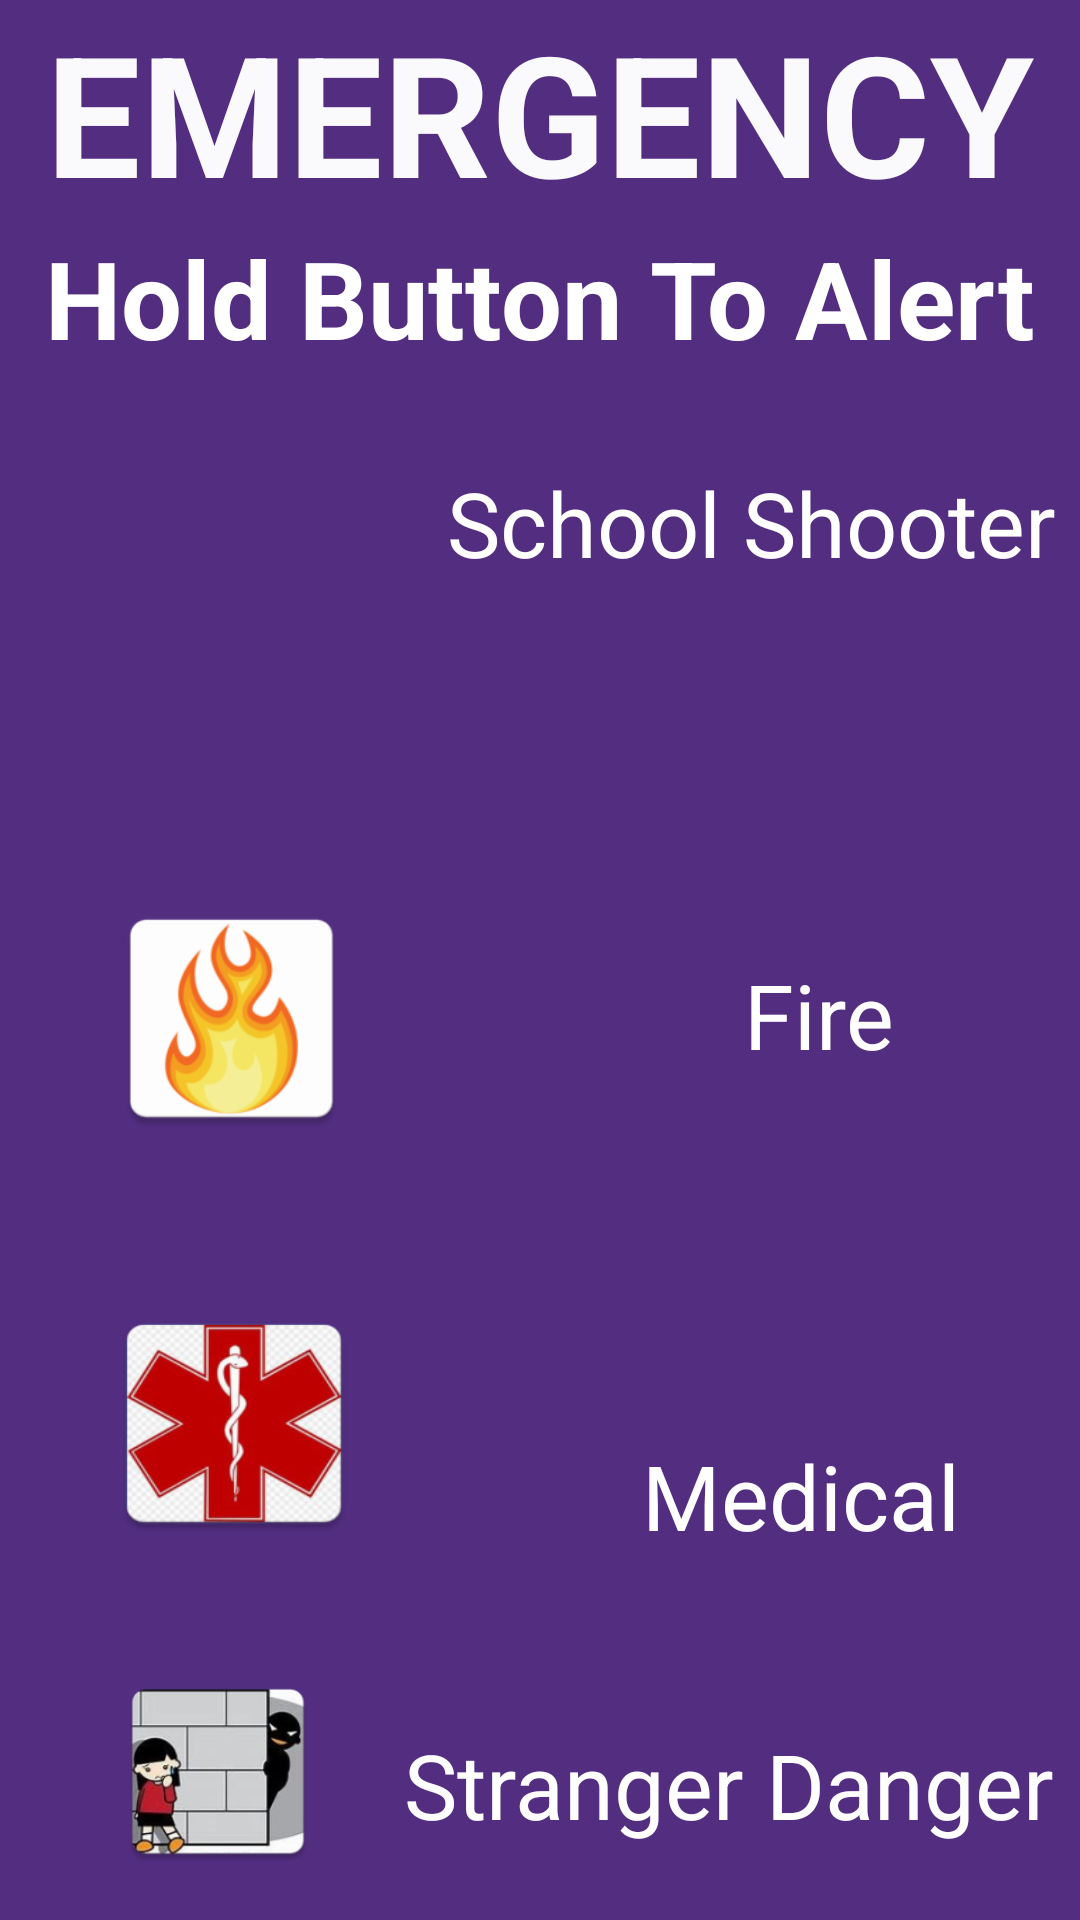

Screen size 1080px x 1920px. Icon name, then its center in pixels as [x,y]:
medical: [234,1424]
stalkerpic: [218,1772]
